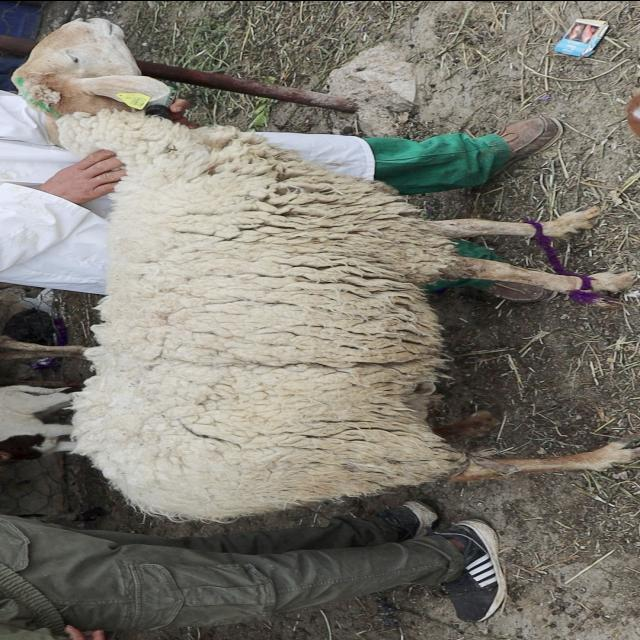Score_4: (12, 18, 636, 522)
